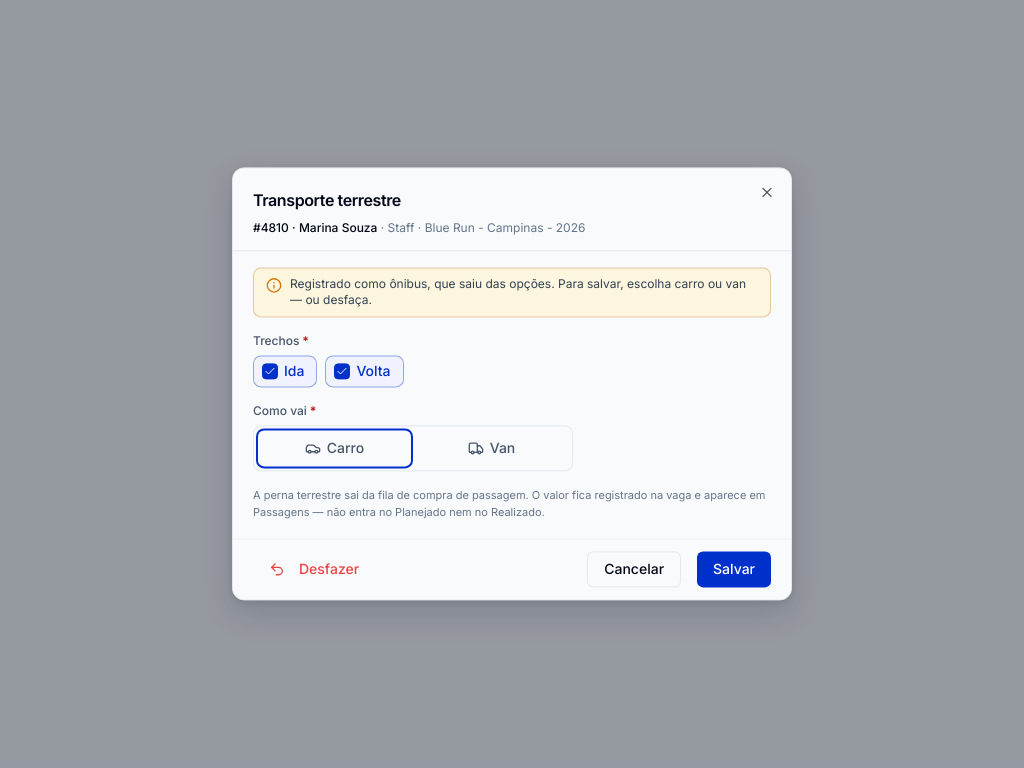
Test: Diálogo 'Vai de carro ou van' › ônibus antigo: aparece com o aviso, sem modo marcado; salvar pede carro ou van
Expected: the element with test id "terrestre-aviso-onibus" is shown, [253,267,771,317]
What coordinates should you click on to do the following:
click the button with test id "terrestre-salvar"
I would click on:
 (734, 570)
Its box is [697,552,771,588].
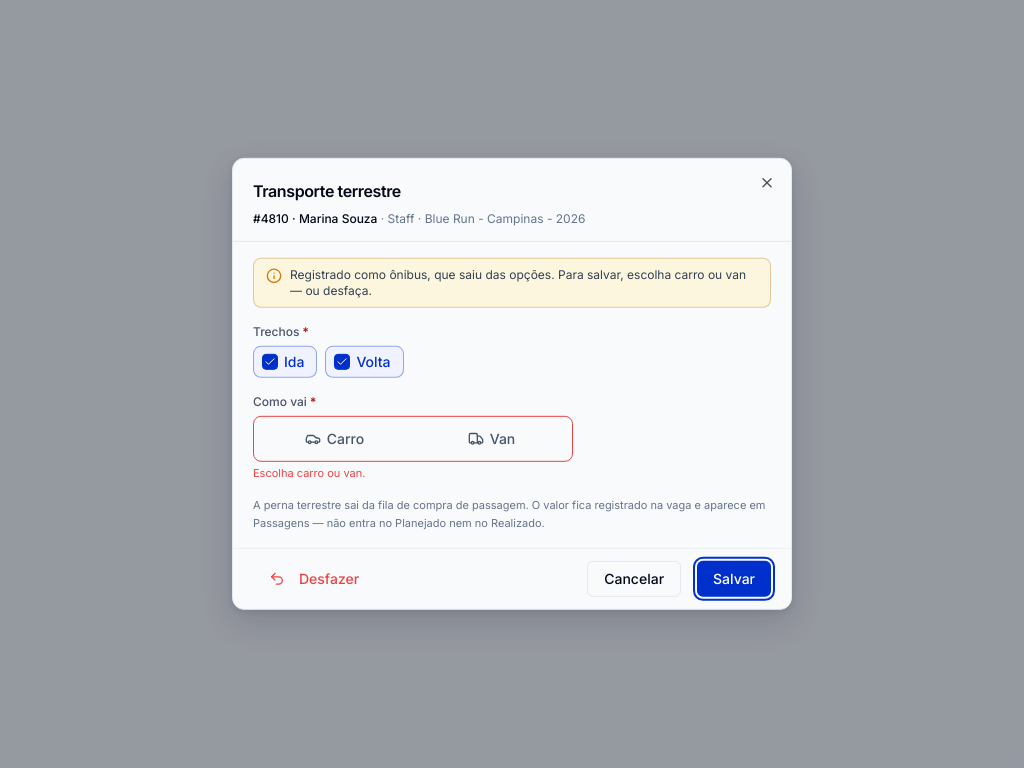
Expected: the button with test id "terrestre-desfazer" is shown, [253,561,375,597]
Expected: the text "Escolha carro ou van." is shown, [253,465,365,479]
